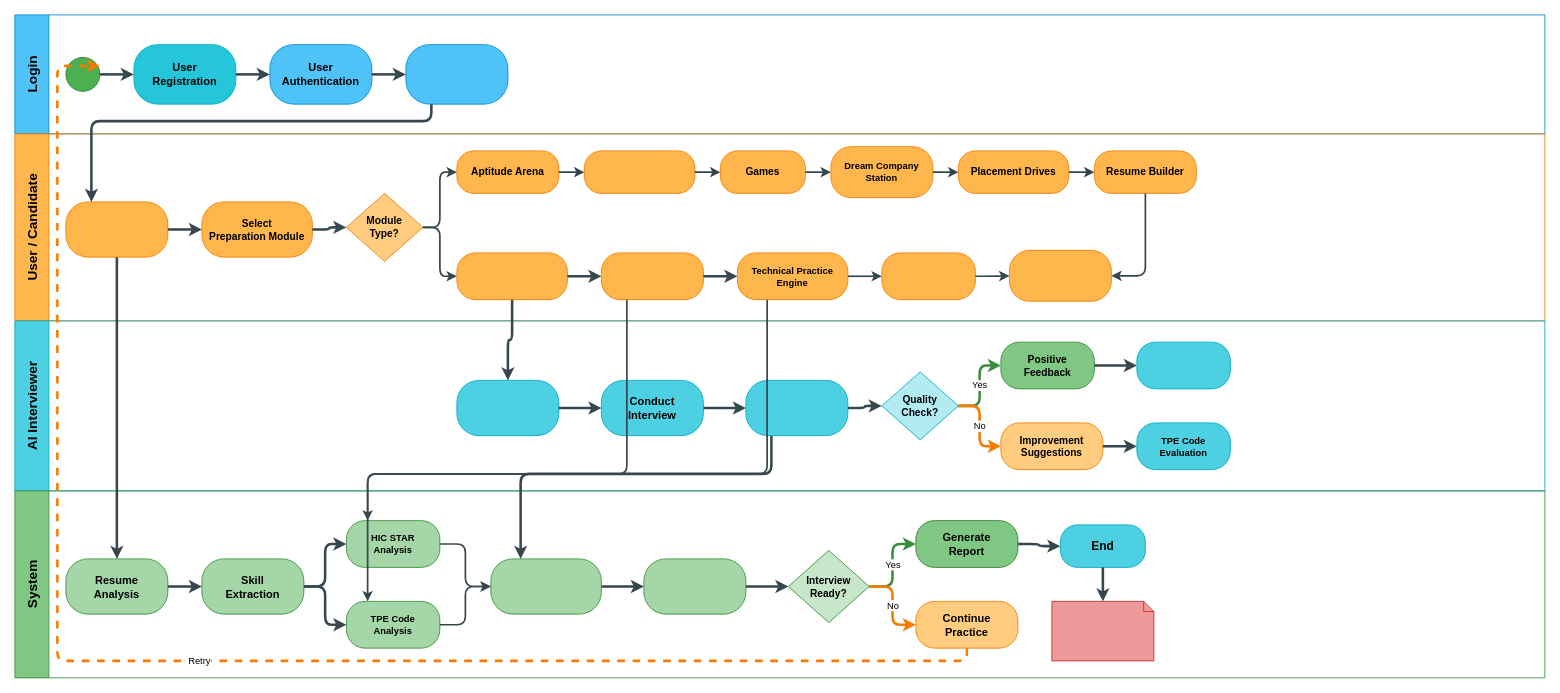
The diagram is 1560 pixels wide and 693 high, and some of its shapes have lost their labels. Each missing label, with the centre of its shape:
Generate Questions: (507,408)
HIC Soft Skills Evaluation: (1183,365)
HR Interview Coach: (652,276)
Interview Preparation Complete: (1102,631)
Interview Resource Hub: (1060,275)
Performance Evaluation: (545,586)
Profile Setup: (456,74)
Response Analysis: (796,408)
Resume Upload: (116,229)
Score Calculation: (694,586)
Skill Autofill: (928,276)
Soft Skill Section: (639,171)
Start AI Interview: (511,276)
